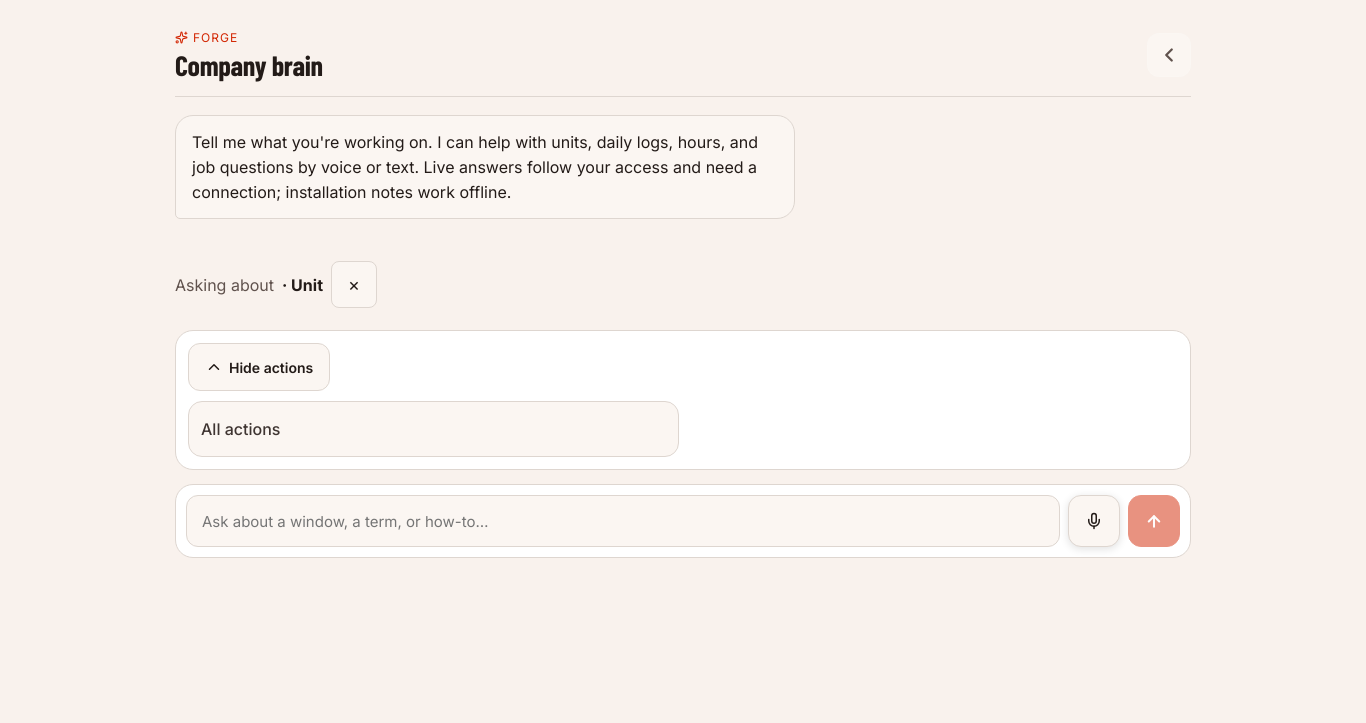
the newest message comes into view (note 3) › a voice message's transcript comes into view the moment it is written out, and its reply under it
Step 1. Click the button named "Record a voice message" → (1094, 521), box [1068,495,1120,547]
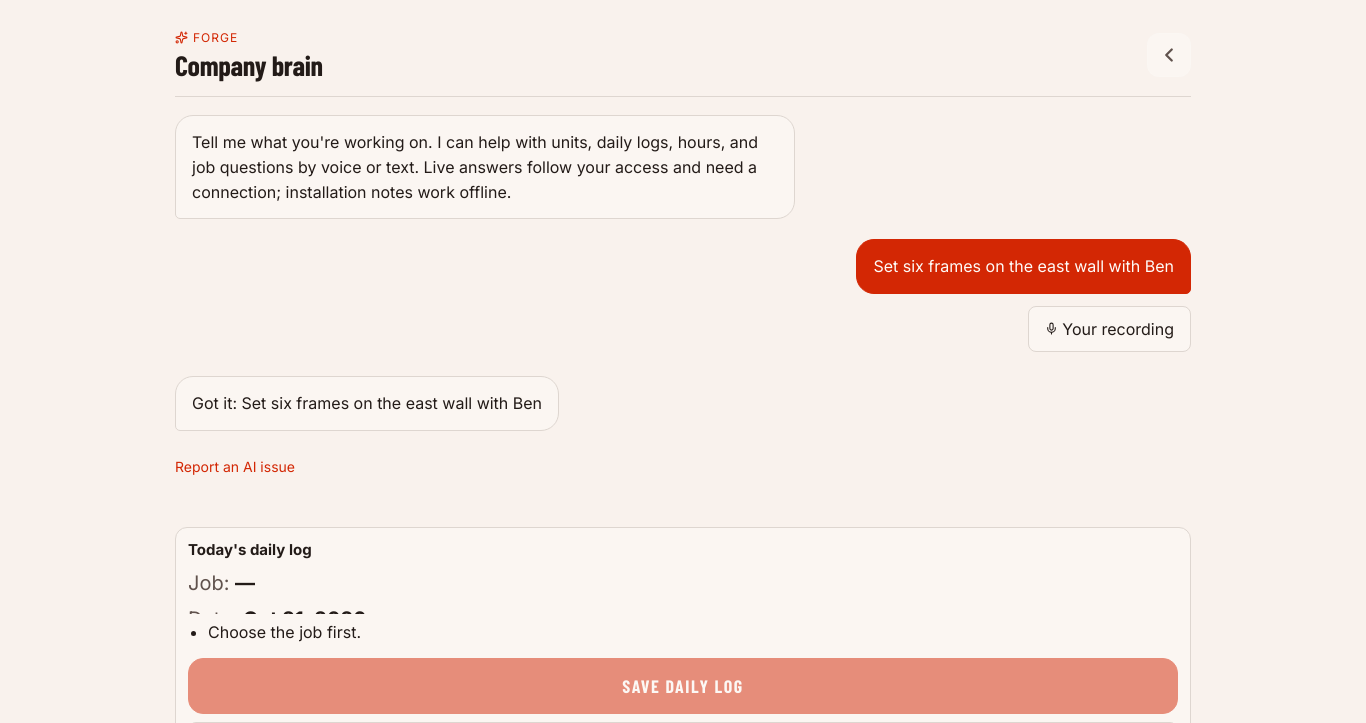
Check: the text with class "mine" reads "Set six frames on the east wall with Ben", box [873,256,1174,276]
Check: the text "Got it: Set six frames on the east wall with Ben" is shown, box [175,376,559,431]
